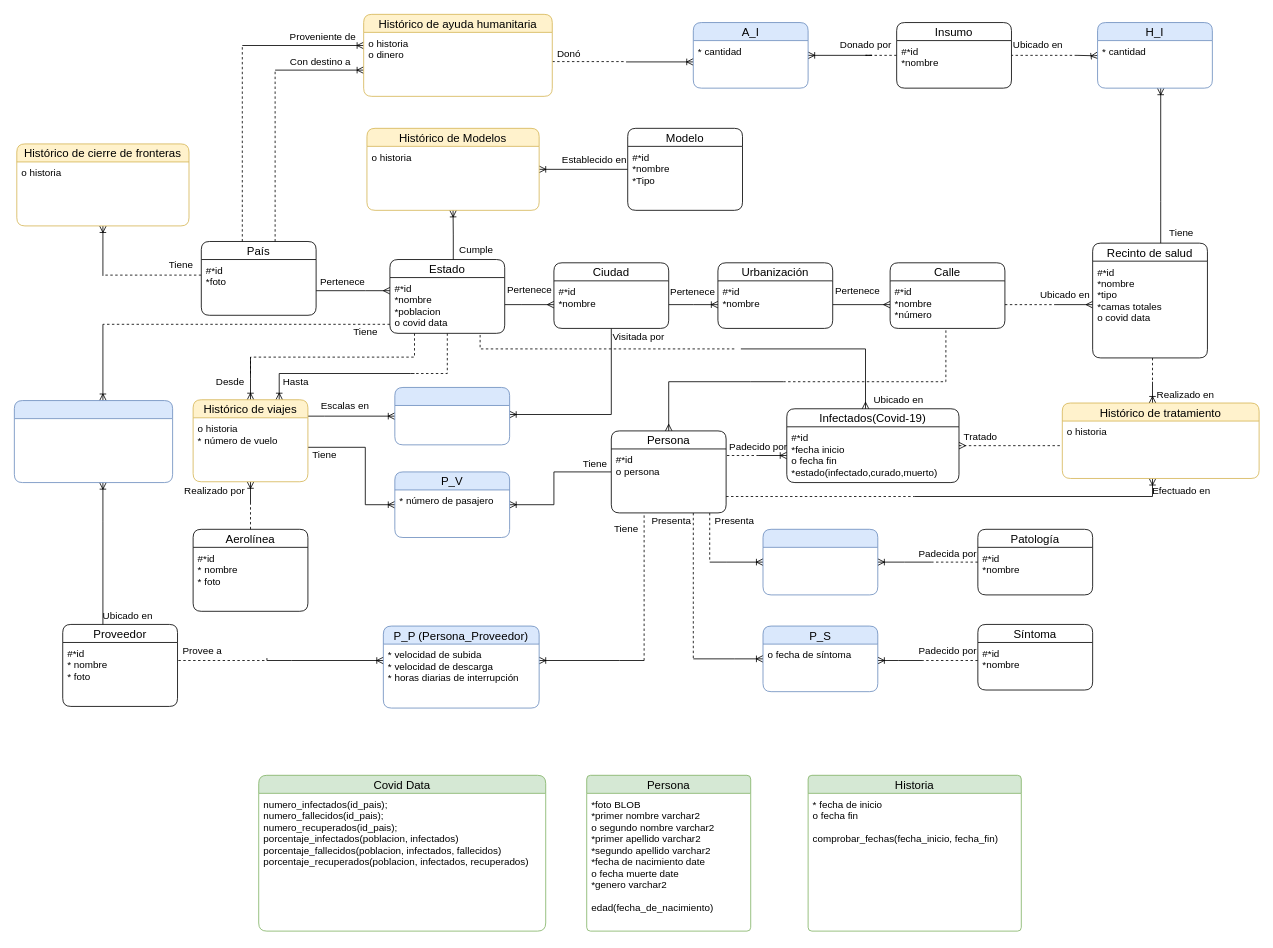
Image size: 1273x948. Some labels were removed from this diagram. Each missing label, with the centre of its shape:
"C_HV (Visitas)" belongs at [452,416].
"E_P (Estado_Proveedor)" belongs at [93,441].
"P_P" belongs at [820,561].
